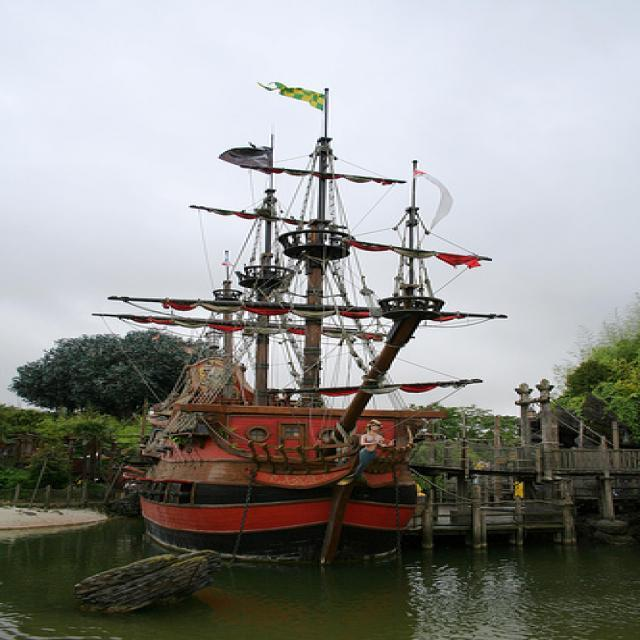Ship: (121, 114, 497, 577)
